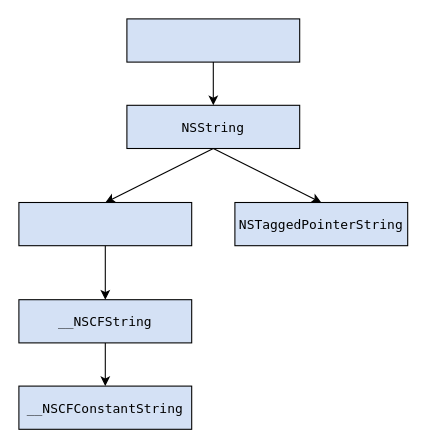
The diagram is 427 pixels wide and 448 high, and some of its shapes have lost their labels. The shapes that lost their labels are listed below. From the top down, each one's centre as x and y in pixels, then its label:
the point at 213,40: NSObject
the point at 105,223: NSMutableString
